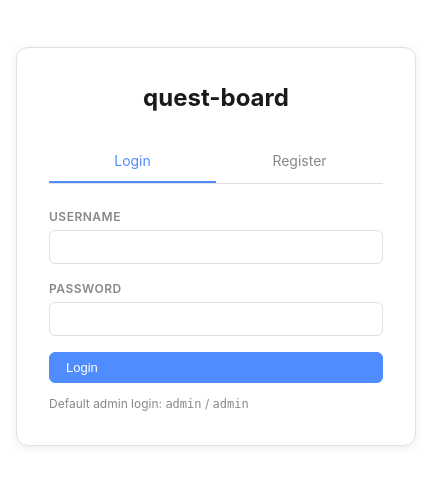
Test case: AuthPage › clears error on tab switch
The image size is (433, 494).
Type "bad" into the field at (216, 246), box [49, 230, 383, 264]
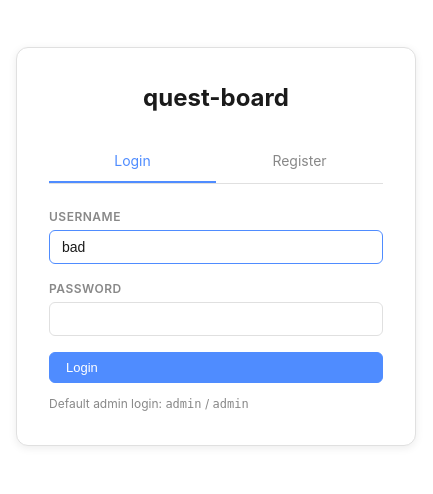
Type "creds" into the password field at (216, 318), box [49, 302, 383, 336]
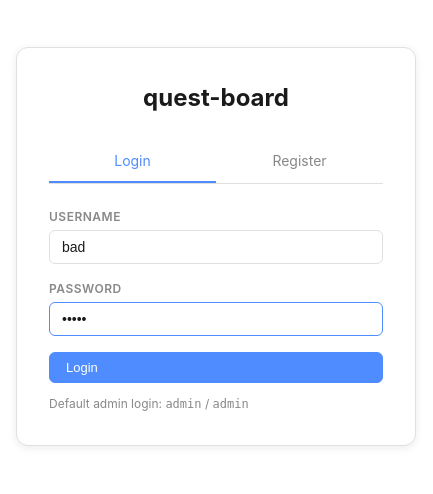
Click the button "Login" at (82, 367), box [49, 352, 383, 382]
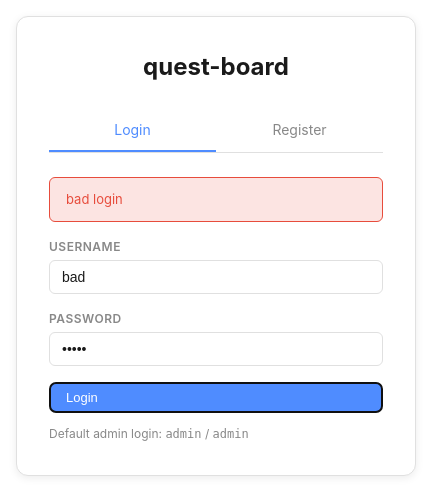
Result: the text "bad login" is shown at [49, 177, 383, 222]
Click the text "Register" at (300, 129), box [272, 121, 327, 138]
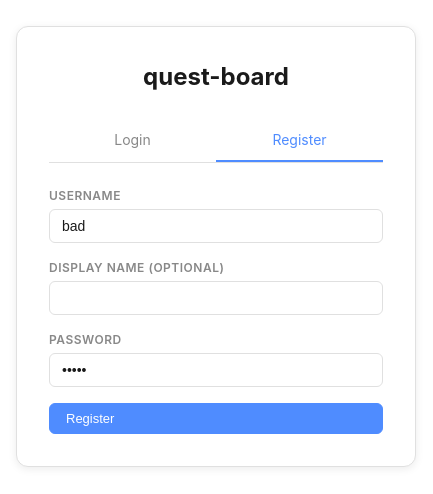
Result: the text "bad login" is gone
